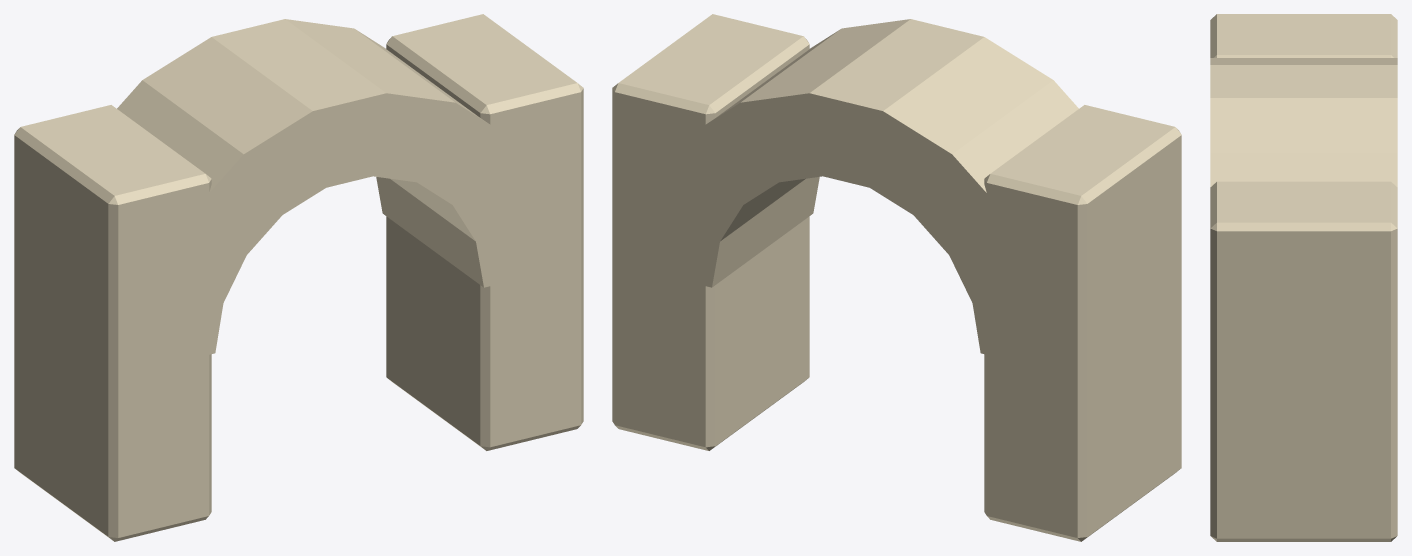
Rendered from gate.glb.
3 renders of one model, left to right at view 1: azimuth 30°, elevation 25°; view 2: azimuth 150°, elevation 25°; view 3: azimuth 270°, elevation 25°, orthographic. The views are drawn at different scales.
Visible parts, largest first — view 1: gate; view 2: gate; view 3: gate.
Part boxes in pixels (x1,y1,x2,y2): gate: [14, 14, 583, 541]; gate: [612, 14, 1181, 541]; gate: [1210, 14, 1397, 541].
Bounding box in the file's own units: 4.6 × 3.57 × 1.7.
